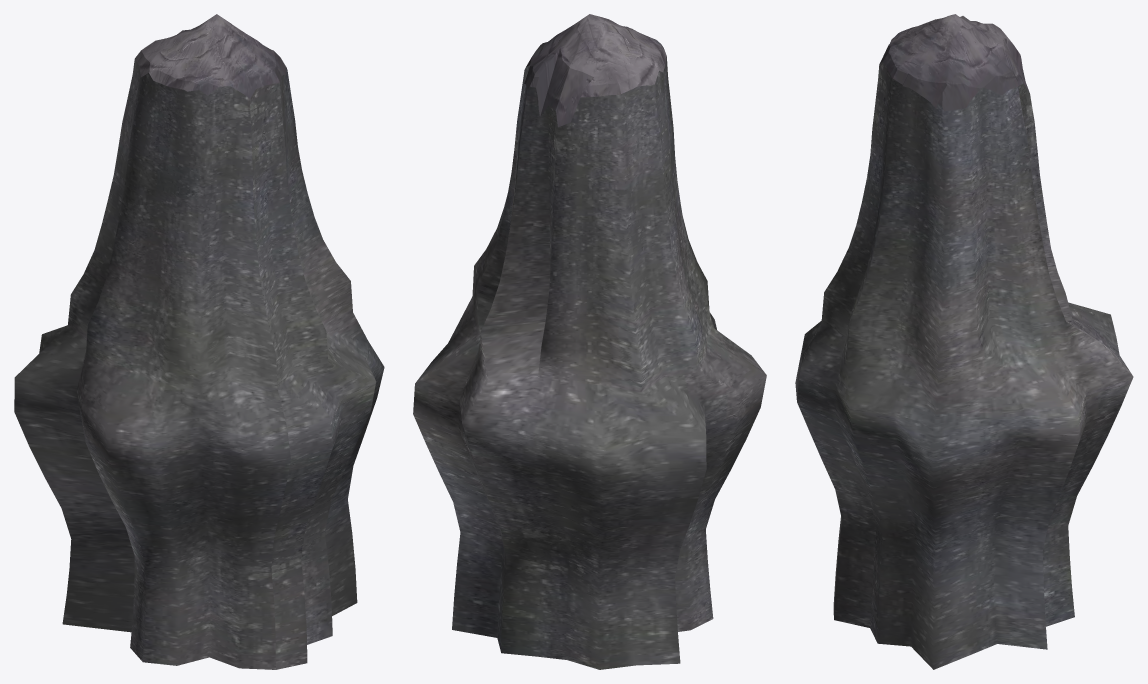
3 renders of one model, left to right at view 1: azimuth 30°, elevation 25°; view 2: azimuth 150°, elevation 25°; view 3: azimuth 270°, elevation 25°, orthographic. The views are drawn at different scales.
Visible parts, largest first — view 1: SM_FH_Ash_Tree_01_stump_LOD0; view 2: SM_FH_Ash_Tree_01_stump_LOD0; view 3: SM_FH_Ash_Tree_01_stump_LOD0.
Part boxes in pixels (x1=…): SM_FH_Ash_Tree_01_stump_LOD0: x1=14, y1=14, x2=384, y2=669; SM_FH_Ash_Tree_01_stump_LOD0: x1=413, y1=14, x2=766, y2=669; SM_FH_Ash_Tree_01_stump_LOD0: x1=795, y1=14, x2=1133, y2=669.
Bounding box in the file's own units: 1.32 × 2.45 × 1.26.
Materials: 1 (1 with a texture image).
